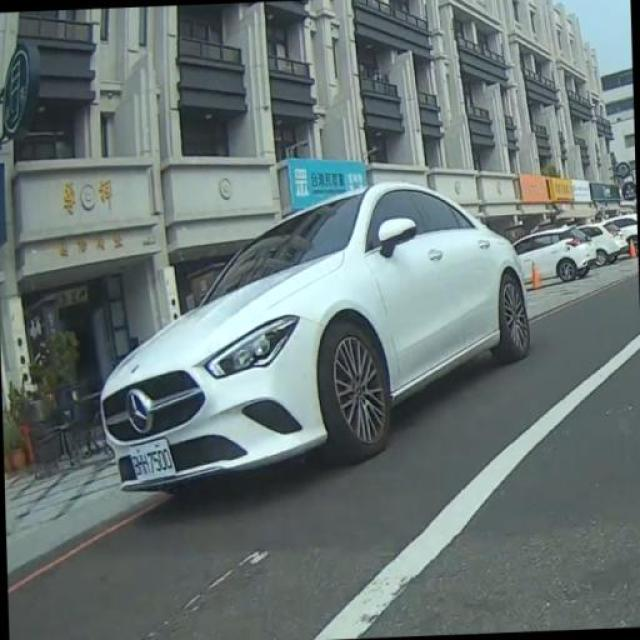Legalparking: (47, 164, 544, 570)
